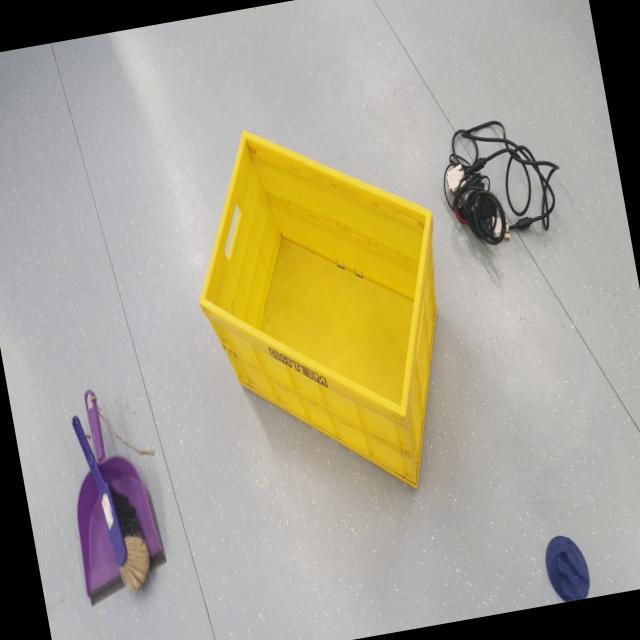box: (163, 85, 487, 532)
